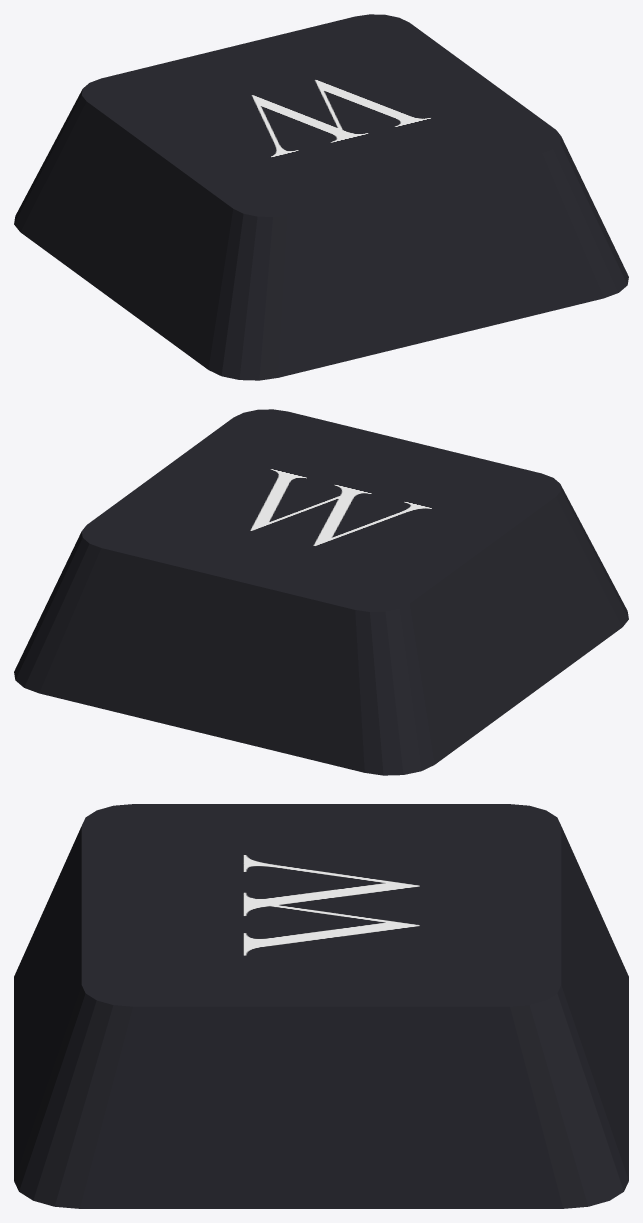
The model's file is KeyBoradW.obj.
3 views of the same model, one above another, from view 1: azimuth 30°, elevation 25°; view 2: azimuth 150°, elevation 25°; view 3: azimuth 270°, elevation 25° (orthographic). The views are drawn at different scales.
Visible parts, largest first — view 1: key.003; view 2: key.003; view 3: key.003.
Boxes of the visible parts, x1=… form: key.003: x1=14, y1=14, x2=628, y2=380; key.003: x1=14, y1=409, x2=628, y2=775; key.003: x1=14, y1=804, x2=628, y2=1208.
Size of the model in its own units: 2 by 0.6227 by 2.
Materials: 1 (1 with a texture image).
